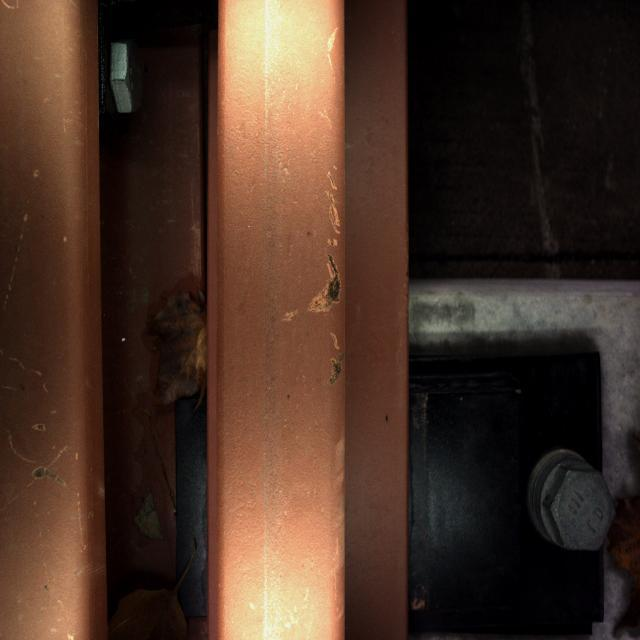scar: (297, 229, 353, 396)
